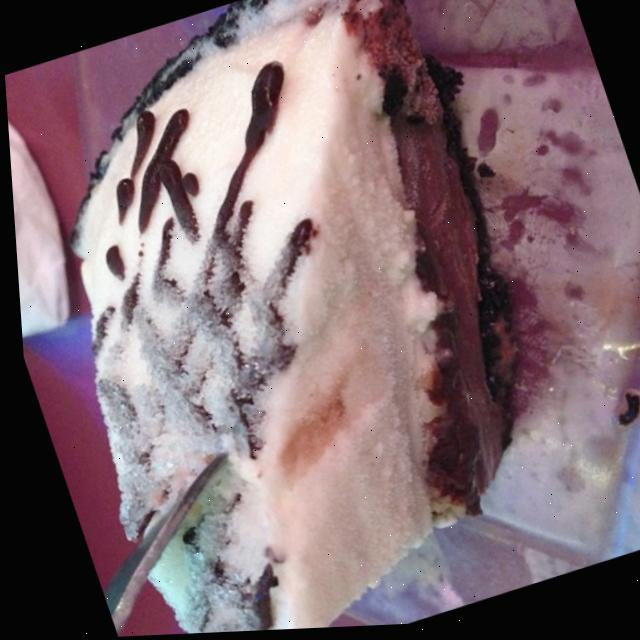蛋糕甜品: (0, 0, 633, 640)
